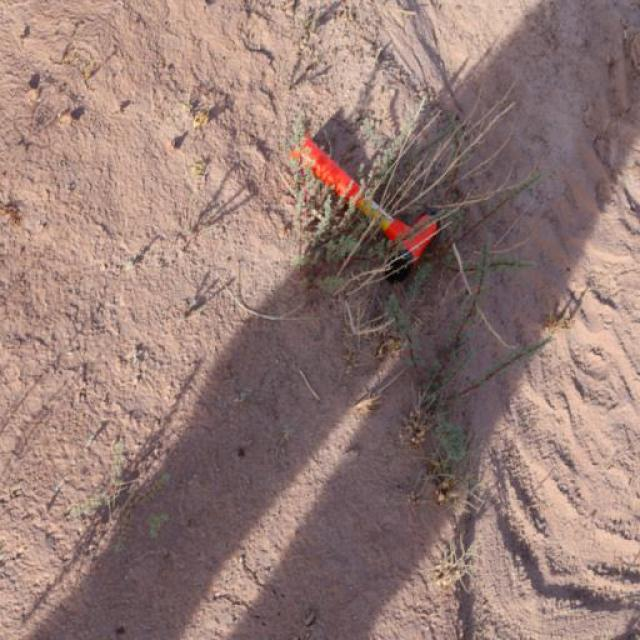mallet: (286, 134, 440, 280)
